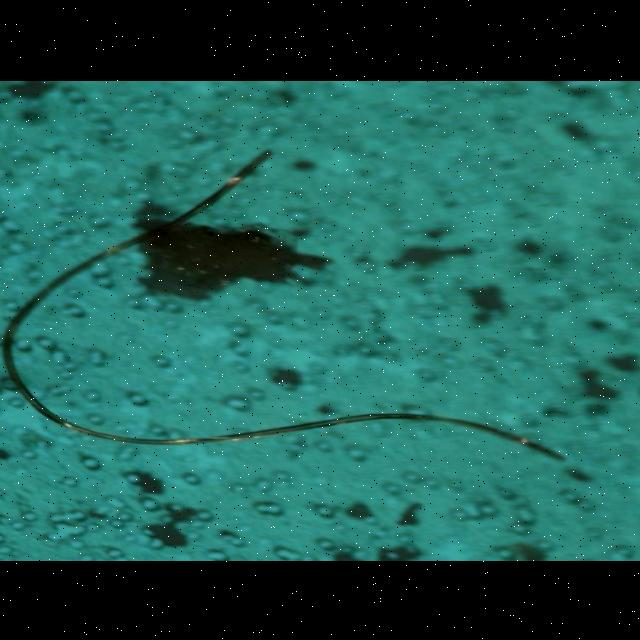Fibre: (1, 149, 572, 461)
